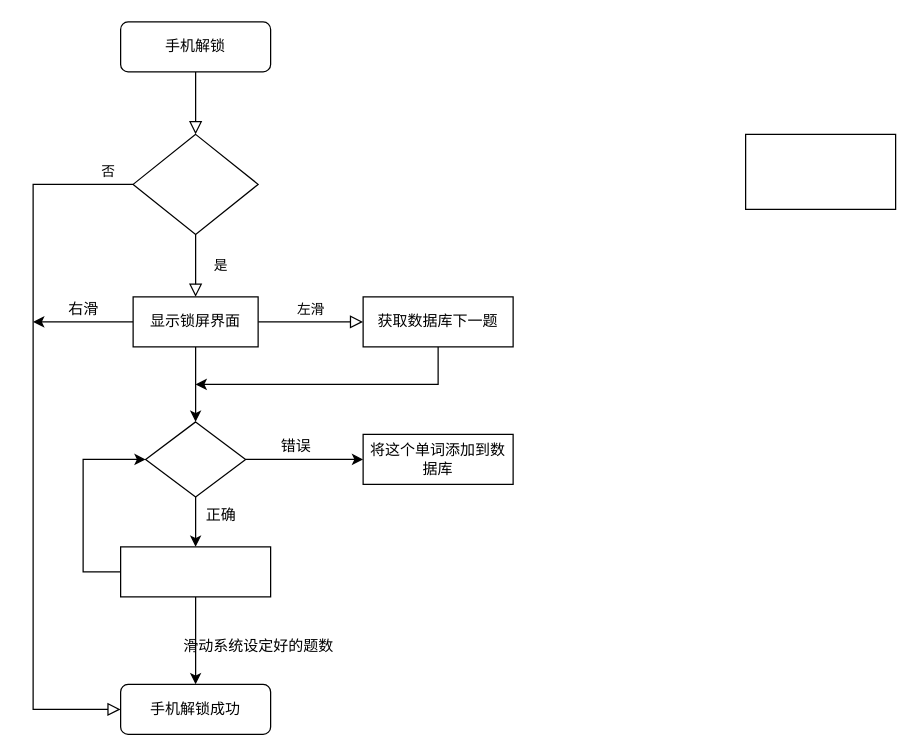
Some shapes in this 918 by 756 pixel diagram are drawn without their labels. Each missing label, with the centre of its shape:
"下一题" goes at point (195, 571).
"是否启用锁屏背单词" goes at point (195, 183).
"答题是否正确" goes at point (195, 459).
